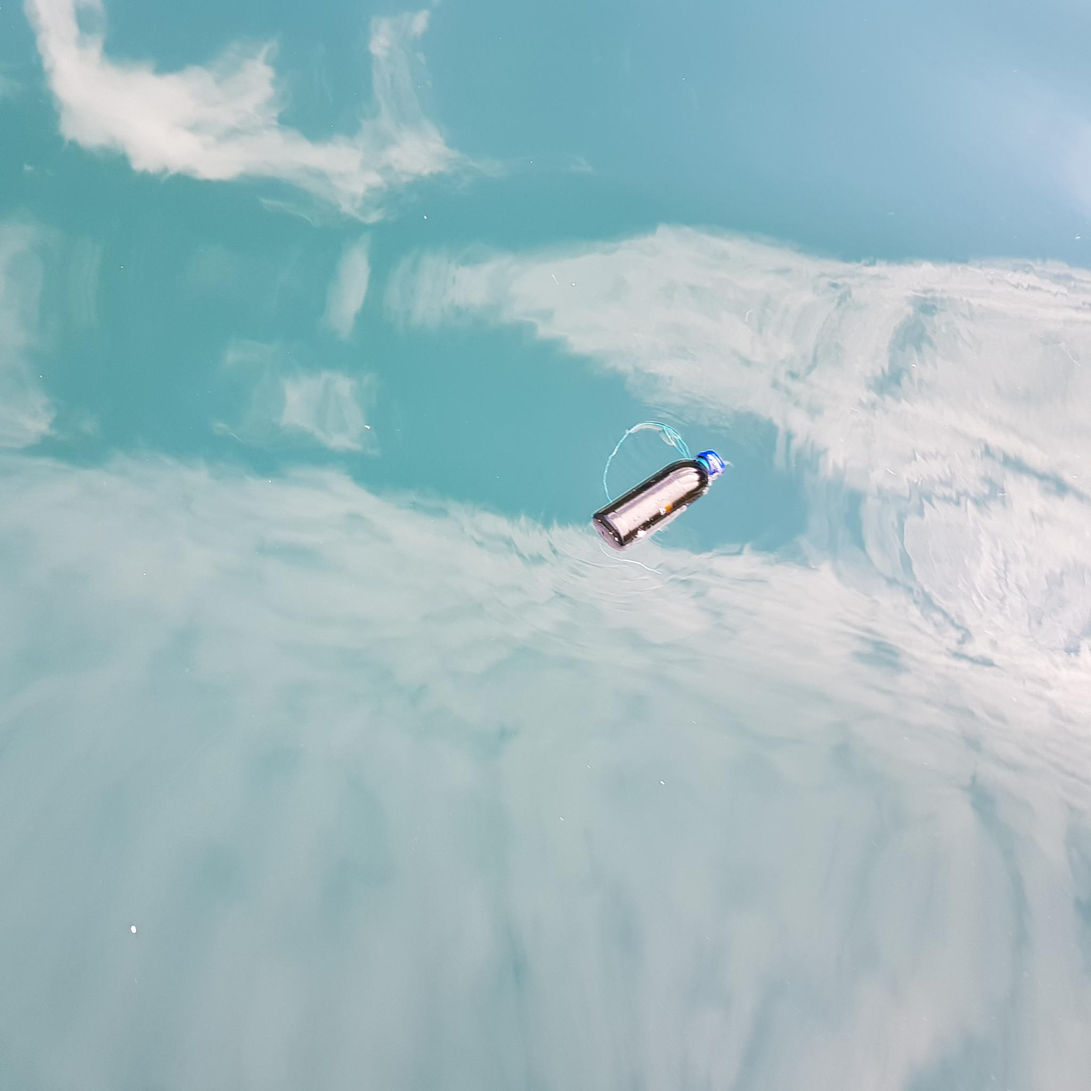sampah_terapung: (593, 451, 724, 552)
